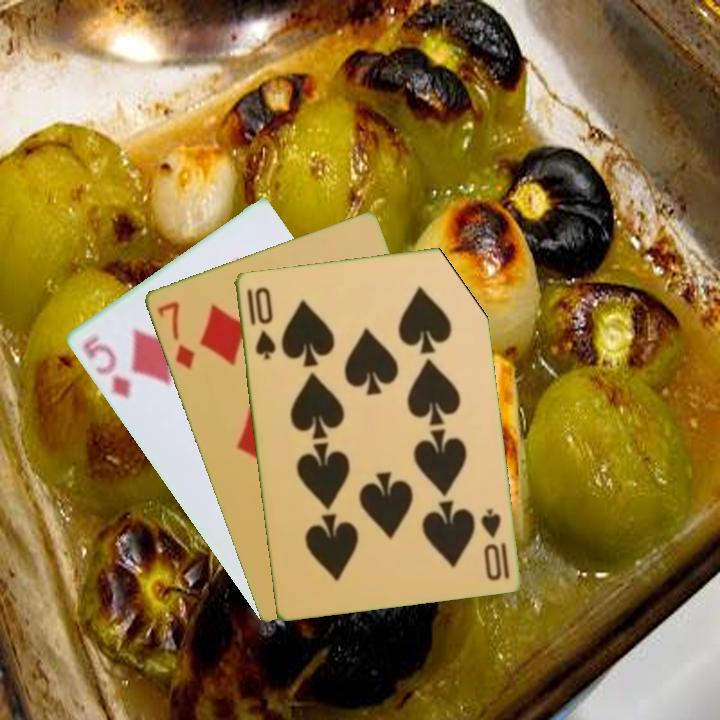10s: (476, 504, 512, 584), (242, 283, 278, 362)
5d: (79, 331, 133, 402)
7d: (153, 297, 197, 372)
